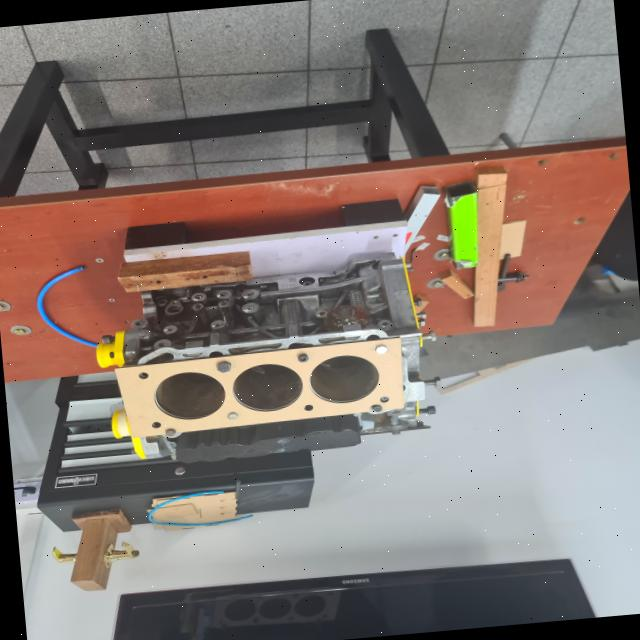tor_v1: (114, 337, 404, 437)
